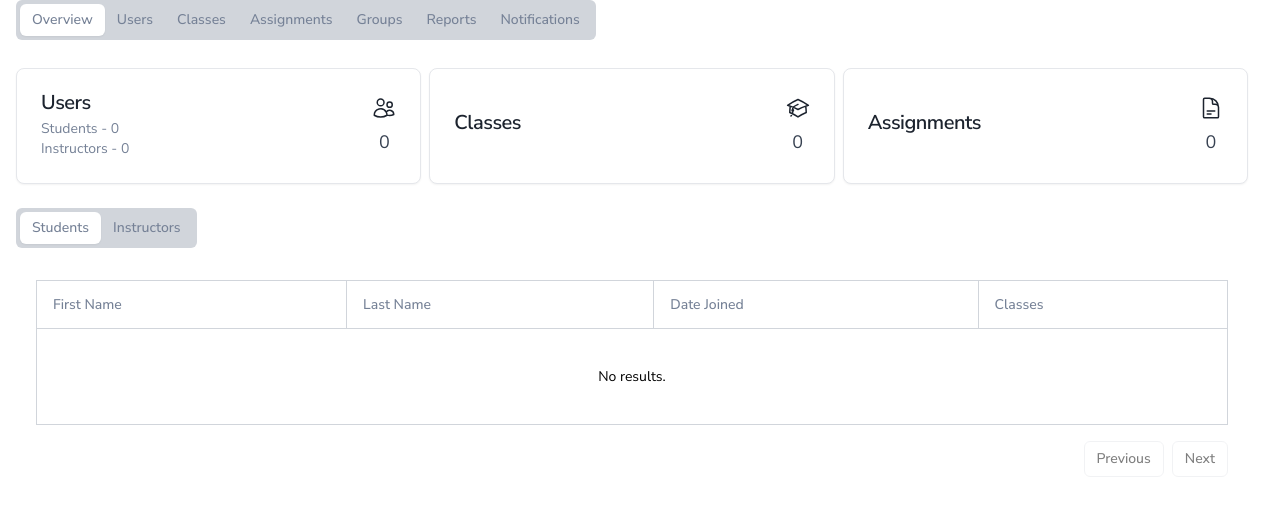
Test: AdminDashboard Component › renders Notifications tab content when Notifications tab is clicked
The width and height of the screenshot is (1265, 522).
Click the tab "Notifications" at (540, 20), box x1=488 y1=4 x2=592 y2=36
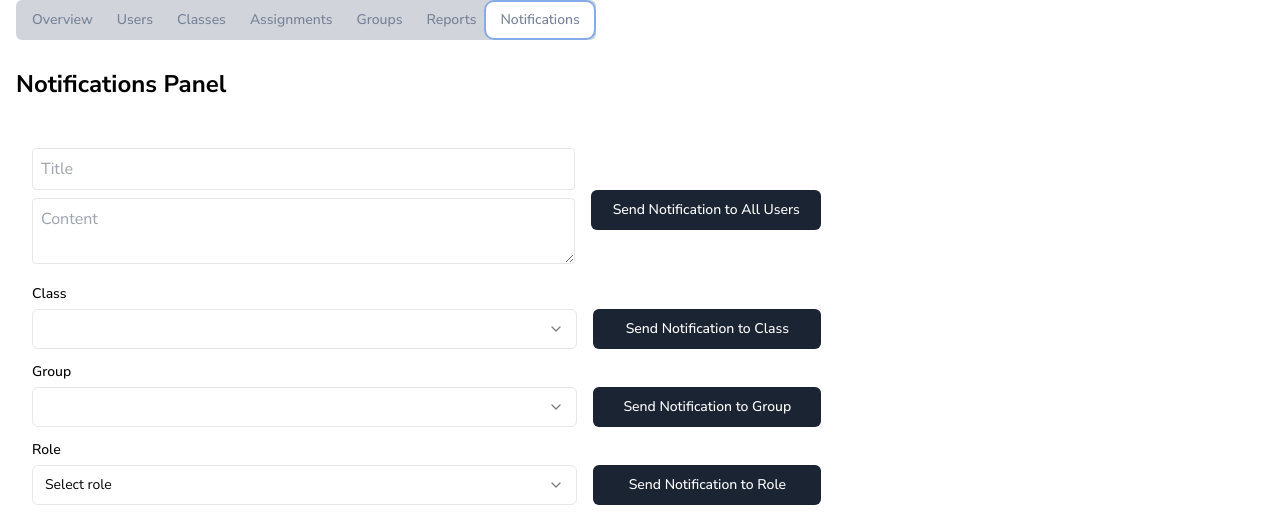
expect the heading "Notifications Panel" is shown: met, box x1=16 y1=68 x2=226 y2=100
